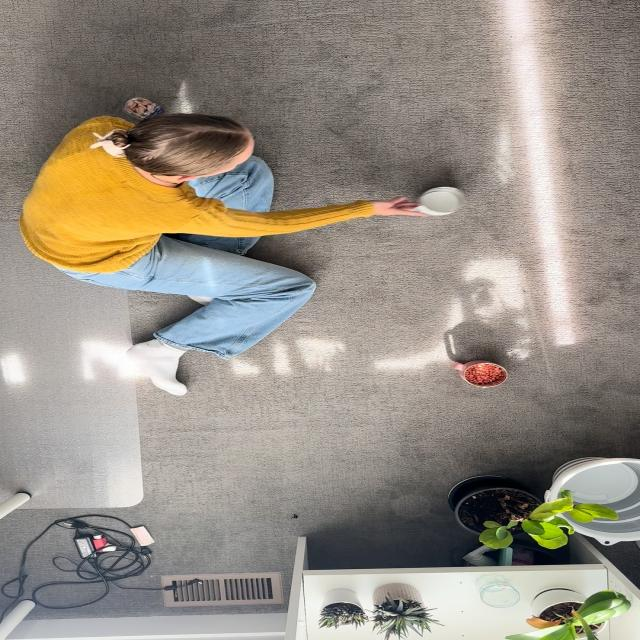IBC: (452, 360, 507, 388), (414, 187, 464, 216)
